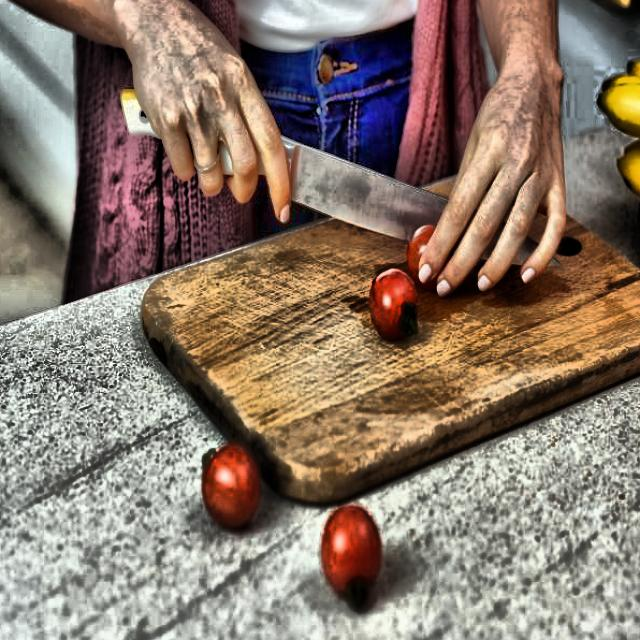knife: (115, 82, 560, 276)
